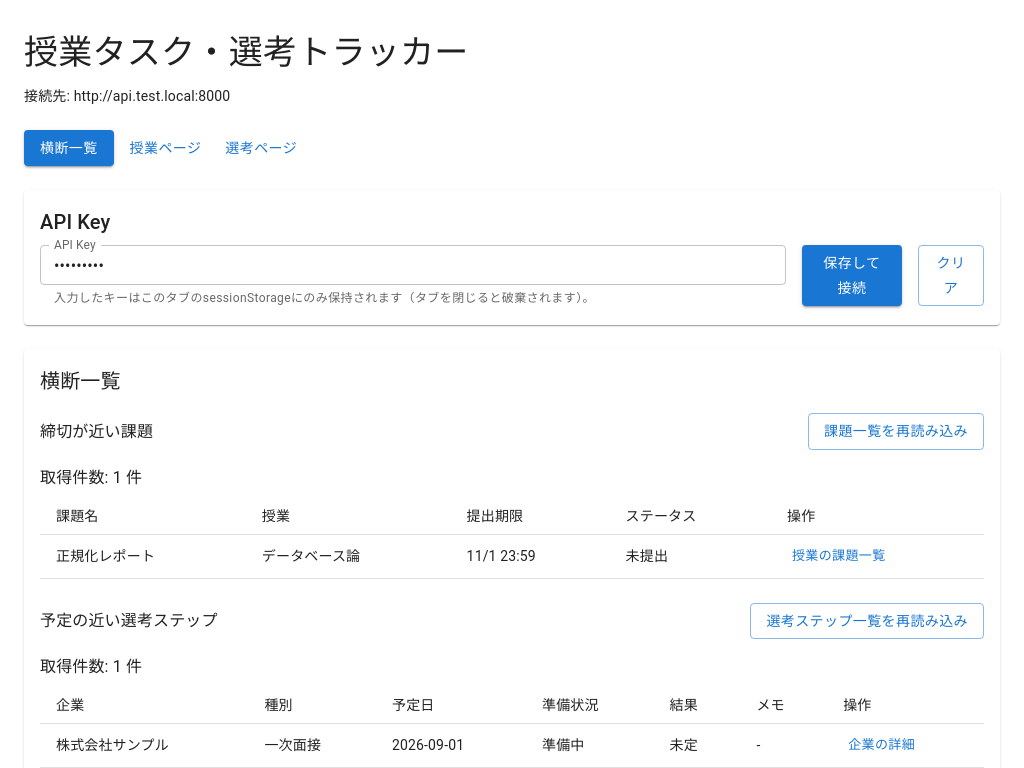
Test case: 締切が近い課題からの画面遷移 › 課題の項目から、授業ページで該当授業の課題一覧が開いた状態へ辿れる
expect the text "正規化レポート" is shown: met, box [40,534,246,578]
Click the link with aria-label "課題「正規化レポート」の授業「データベース論」の課題一覧へ".
click(839, 555)  # box [792,548,886,563]
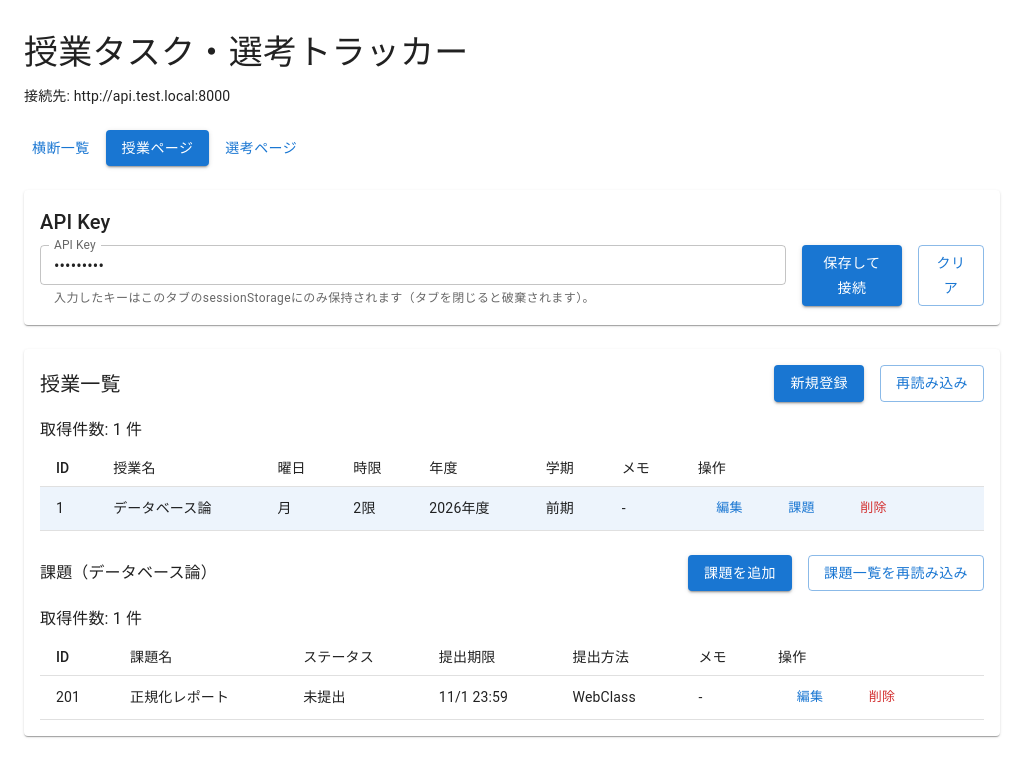
expect the text "正規化レポート" is shown: met, box [114,676,287,719]
expect the heading "課題（データベース論）" is shown: met, box [40,563,217,582]
